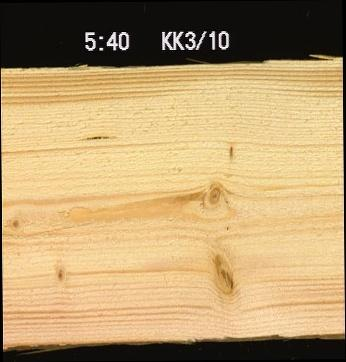small_knot: (55, 264, 66, 282), (10, 215, 20, 228), (227, 143, 233, 160)
sound_knot: (210, 247, 237, 295), (202, 183, 226, 207)
wave: (187, 332, 344, 340)
